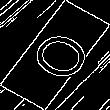O_SE: (16, 23, 94, 87)
